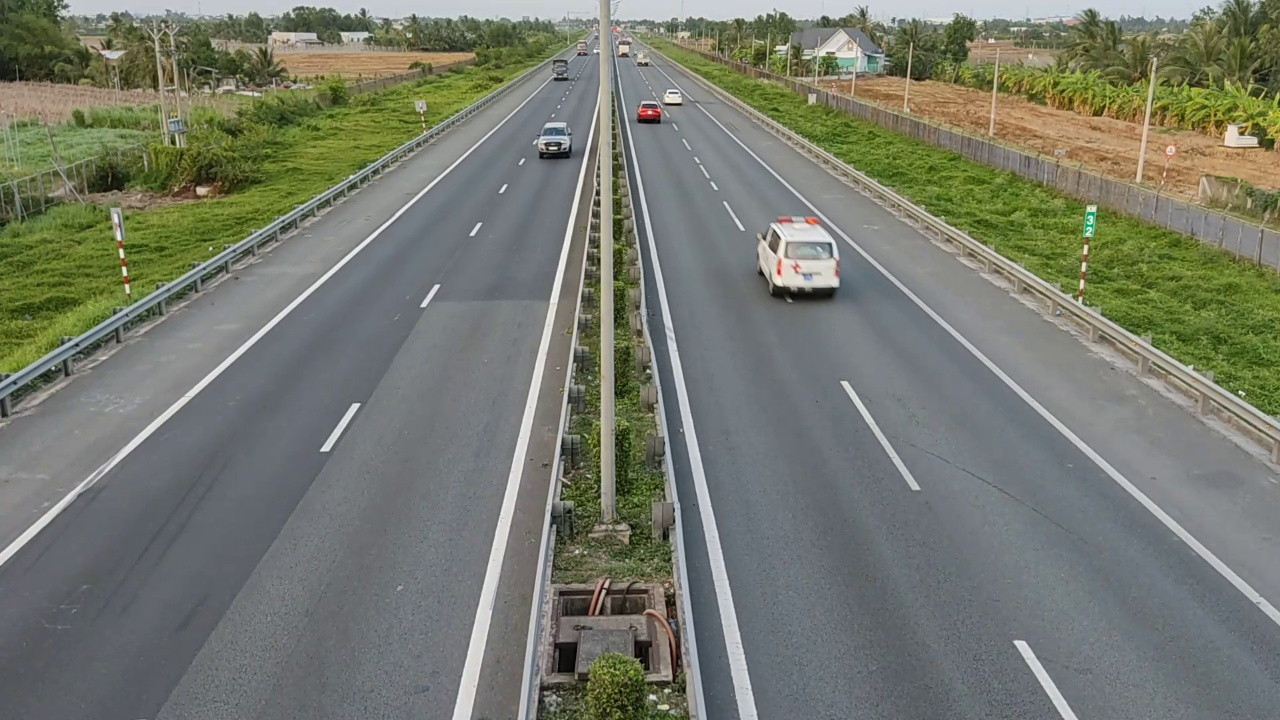car: (753, 212, 844, 303), (534, 121, 573, 159), (637, 100, 662, 123), (661, 87, 683, 106)
